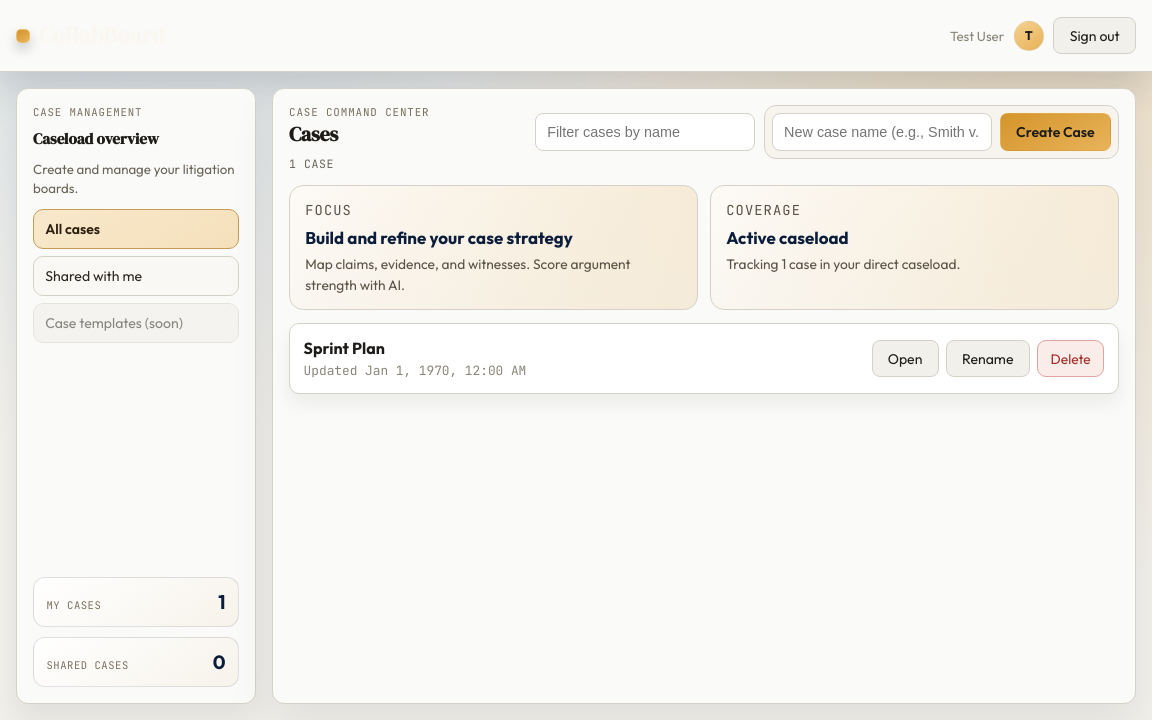
Test: Dashboard › shows rename input when Rename is clicked
This screenshot has width=1152, height=720.
Click the button "Rename".
click(988, 359)  # box [946,340,1030,377]
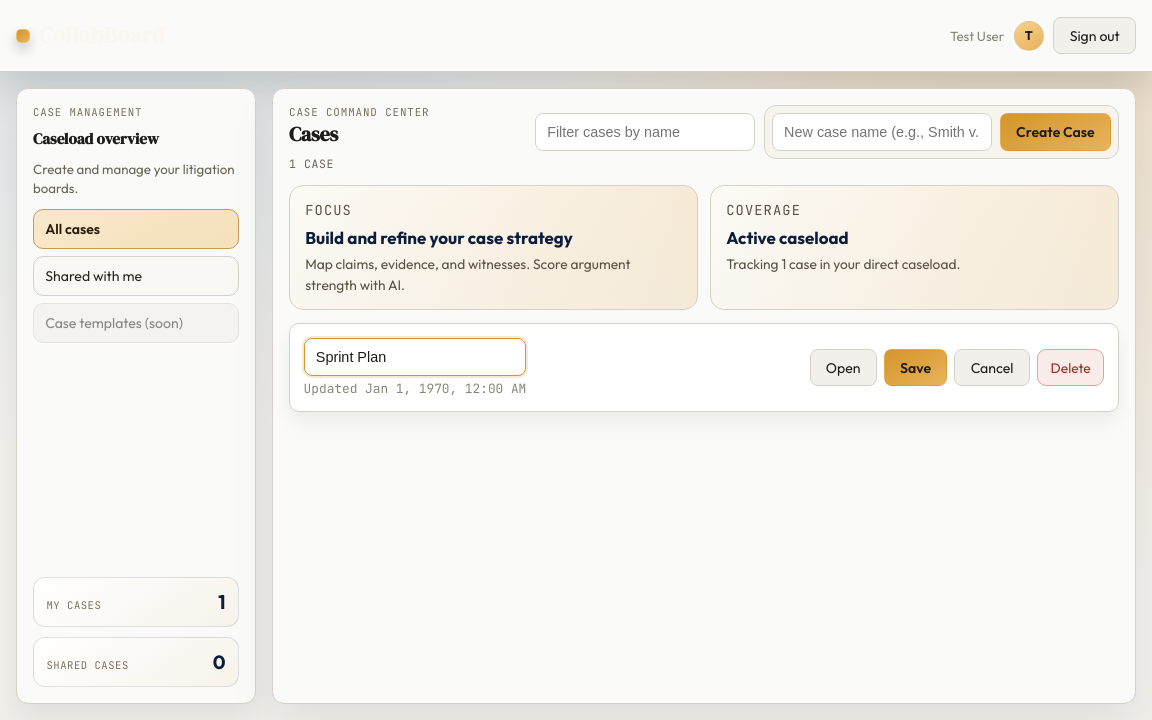
Expected: the field showing "Sprint Plan" is shown, [304,338,526,376]
Expected: the button "Save" is shown, [884,349,947,386]
Expected: the button "Cancel" is shown, [954,349,1030,386]
